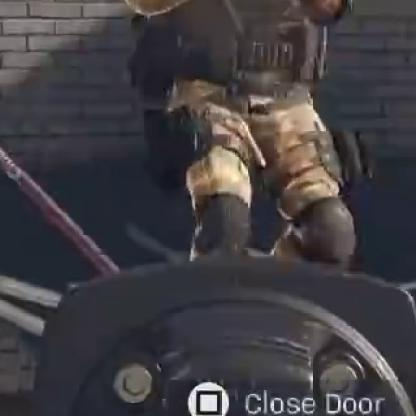enemy: (107, 1, 369, 263)
